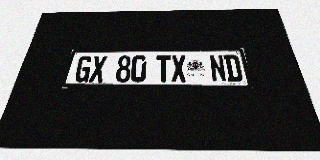0: (130, 55, 146, 82)
8: (115, 56, 132, 82)
D: (223, 55, 243, 82)
G: (73, 56, 93, 82)
N: (209, 55, 227, 82)
T: (156, 55, 171, 82)
X: (88, 56, 107, 82), (171, 55, 187, 82)
